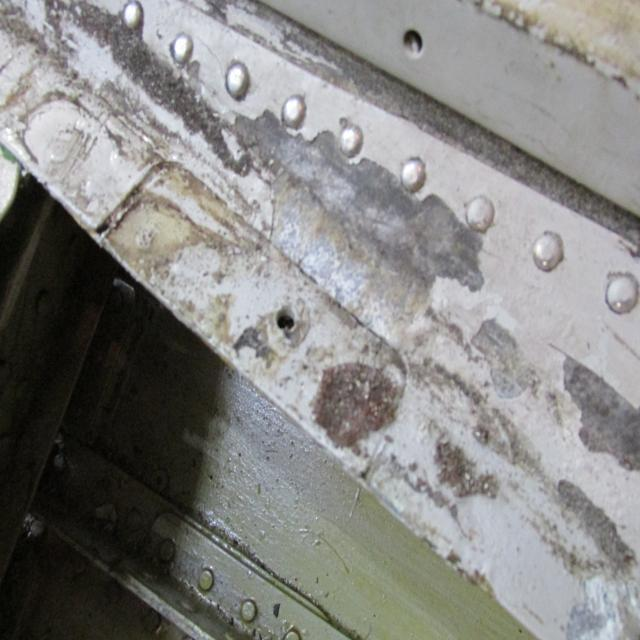Missing Fastener: (255, 284, 309, 344), (396, 13, 434, 81)
